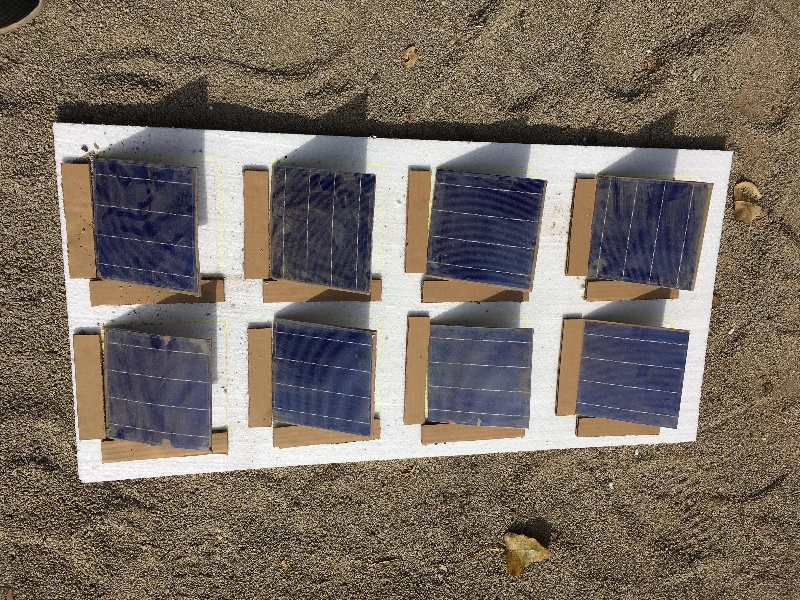dirty: (96, 328, 217, 453), (275, 165, 381, 304), (590, 178, 702, 292), (580, 318, 686, 432), (425, 327, 534, 430)
semi: (94, 157, 208, 297), (432, 166, 542, 286), (268, 314, 374, 437)
